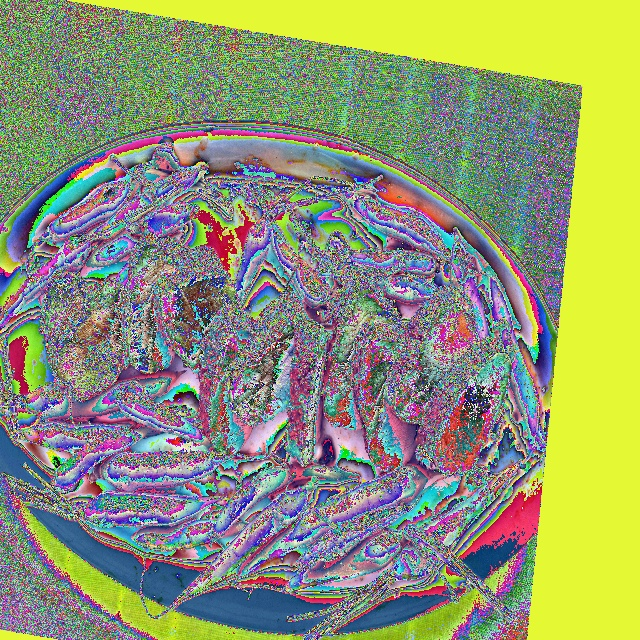background: (0, 142, 547, 639)
